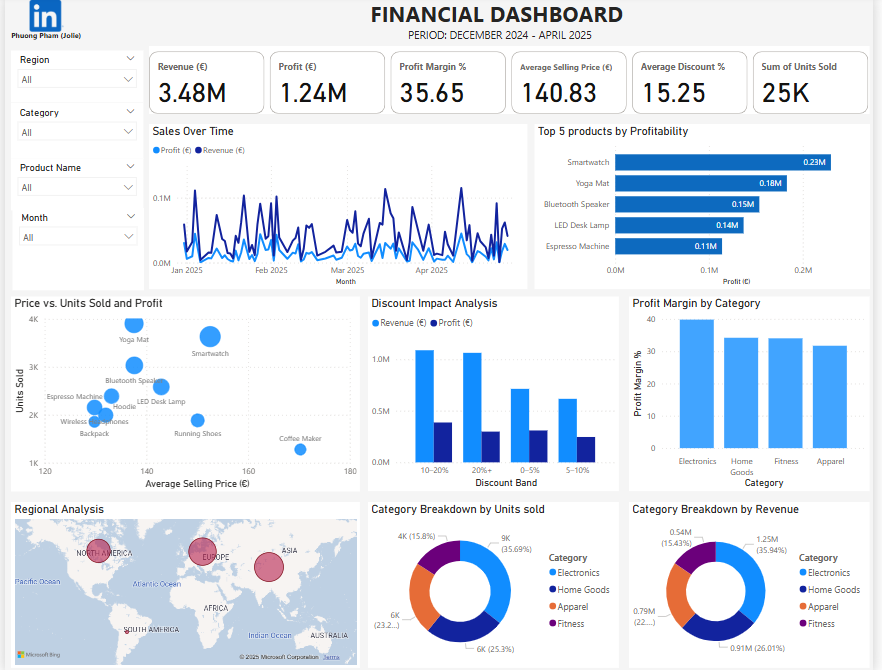

The dashboard page shown, as its layout file describes it:
{"tool":"powerbi","page":{"name":"Dashboard","canvas":[1295,1012],"ordinal":0},"visuals":[{"type":"textbox","box":[206,0,1064,78],"z":0},{"type":"slicer","fields":{"Values":["SalesData.Region"]},"box":[8.6,81.9,197.1,77.1],"z":0,"group":"g2"},{"type":"cardVisual","fields":{"Data":["SalesData.Revenue (€)","SalesData.Profit (€)","SalesData.Profit Margin %","SalesData.Average Selling Price (€)","SalesData.Average Discount %","Sum(SalesData.Units Sold)"]},"box":[215.4,75.4,1073.8,101.5],"z":1000},{"type":"slicer","fields":{"Values":["SalesData.Category"]},"box":[8.6,159,197.1,82.9],"z":1000,"group":"g2"},{"type":"lineChart","title":"Sales Over Time","fields":{"Y":["SalesData.Profit (€)","SalesData.Revenue (€)"],"Category":["SalesData.Date Sold.Variation.Date Hierarchy.Year","SalesData.Date Sold.Variation.Date Hierarchy.Quarter","SalesData.Date Sold.Variation.Date Hierarchy.Month","SalesData.Date Sold.Variation.Date Hierarchy.Day"]},"box":[215.7,193.3,564.3,245.7],"z":2000},{"type":"slicer","fields":{"Values":["SalesData.Product Name"]},"box":[8.6,242.1,197.1,77.1],"z":2000,"group":"g2"},{"type":"clusteredBarChart","title":"Top 5 products by Profitability ","fields":{"Category":["SalesData.Product Name"],"Y":["SalesData.Profit (€)"]},"box":[788.6,193.3,500,245.7],"z":3000},{"type":"slicer","fields":{"Values":["SalesData.Date Sold.Variation.Date Hierarchy.Month"]},"box":[10,316.4,195.7,122.9],"z":3000,"group":"g2"},{"type":"donutChart","title":"Category Breakdown by Units sold","fields":{"Category":["SalesData.Category"],"Y":["Sum(SalesData.Units Sold)"]},"box":[540,755.7,374.3,247.1],"z":4000},{"type":"donutChart","title":"Category Breakdown by Revenue","fields":{"Category":["SalesData.Category"],"Y":["SalesData.Revenue (€)"]},"box":[930,755.7,358.6,247.1],"z":5000},{"type":"map","title":"Regional Analysis","fields":{"Category":["SalesData.Region"],"Size":["SalesData.Revenue (€)"]},"box":[8.6,755.7,520,247.1],"z":6000},{"type":"scatterChart","title":"Price vs. Units Sold and Profit","fields":{"X":["SalesData.Average Selling Price (€)"],"Y":["Sum(SalesData.Units Sold)"],"Size":["SalesData.Profit (€)"],"Category":["SalesData.Product Name"]},"box":[9.2,449.2,520,290.8],"z":7000},{"type":"columnChart","title":"Profit Margin by Category","fields":{"Category":["SalesData.Category"],"Y":["SalesData.Profit Margin %"]},"box":[930,448.6,358.6,290],"z":8000},{"type":"group","id":"g1","title":"Group 1","box":[0,0,122.9,77.1],"z":9000},{"type":"image","box":[31.4,0,61.4,61.4],"z":10000,"group":"g1"},{"type":"group","id":"g2","title":"Group 2","box":[8.6,81.9,197.1,357.3],"z":10000},{"type":"textbox","box":[0,45.7,122.9,31.4],"z":11000,"group":"g1"},{"type":"clusteredColumnChart","title":"Discount Impact Analysis","fields":{"Category":["SalesData.Discount Band"],"Y":["SalesData.Revenue (€)","SalesData.Profit (€)"]},"box":[540,449,374.3,290],"z":11000}]}

Visuals, with their boxes in screenshot pixels (x1, y1, x2, y2), scaled from the page's 1295x1012 canvas onto the 882x670 screenshot:
textbox: <region>140, 0, 865, 52</region>
slicer - SalesData.Region: <region>6, 54, 140, 105</region>
cardVisual - SalesData.Revenue (€) x SalesData.Profit (€): <region>147, 50, 878, 117</region>
slicer - SalesData.Category: <region>6, 105, 140, 160</region>
"Sales Over Time" lineChart: <region>147, 128, 531, 291</region>
slicer - SalesData.Product Name: <region>6, 160, 140, 211</region>
"Top 5 products by Profitability " clusteredBarChart: <region>537, 128, 878, 291</region>
slicer - SalesData.Date Sold.Variation.Date Hierarchy.Month: <region>7, 209, 140, 291</region>
"Category Breakdown by Units sold" donutChart: <region>368, 500, 623, 664</region>
"Category Breakdown by Revenue" donutChart: <region>633, 500, 878, 664</region>
"Regional Analysis" map: <region>6, 500, 360, 664</region>
"Price vs. Units Sold and Profit" scatterChart: <region>6, 297, 360, 490</region>
"Profit Margin by Category" columnChart: <region>633, 297, 878, 489</region>
"Group 1" group: <region>0, 0, 84, 51</region>
image: <region>21, 0, 63, 41</region>
"Group 2" group: <region>6, 54, 140, 291</region>
textbox: <region>0, 30, 84, 51</region>
"Discount Impact Analysis" clusteredColumnChart: <region>368, 297, 623, 489</region>
